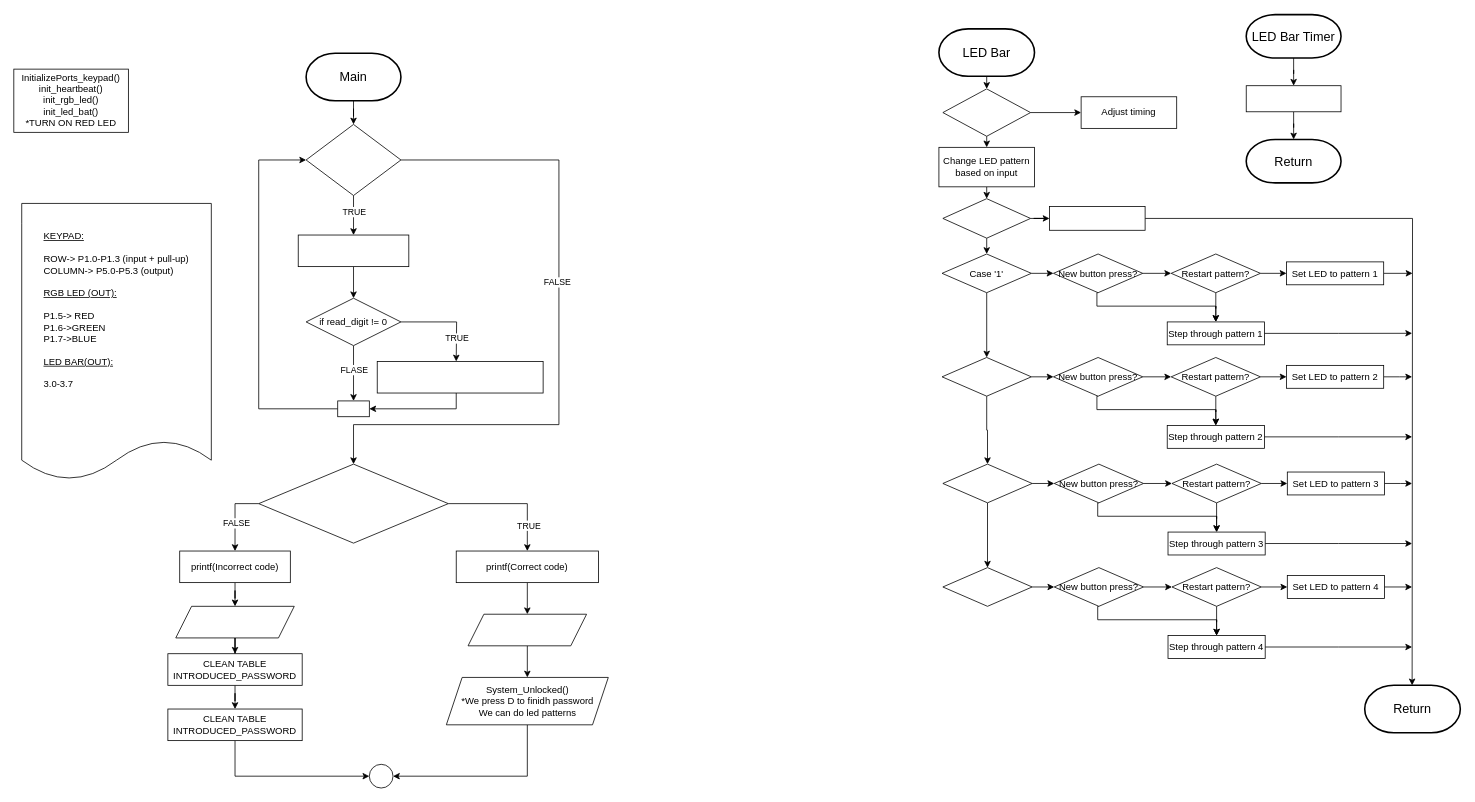
Image size: 1475x802. Some labels were removed from this diagram. Here are the shapes that lost their labels. From the top down, the box of each, then its label:
(942, 88, 1031, 136): Adjust timing?
(1245, 85, 1341, 112): Step through pattern
(305, 124, 401, 196): counter<TABLE_SIZE
(942, 198, 1031, 238): Case '0'
(1049, 206, 1145, 230): Set LED to pattern 0
(297, 234, 409, 267): CALL System_Unlocking() *We turn ON yellow LED here
(376, 361, 543, 393): introduced_password [counter] = key counter++
(941, 357, 1031, 396): Case '2'
(337, 400, 369, 417): ENDIF
(258, 463, 448, 543): if INTODUCED_PASSWORD = REAL_PASSWORD
(942, 463, 1032, 503): Case '3'
(942, 567, 1032, 606): Case '4'
(175, 606, 294, 638): continue_rgb_led(3) *RED LED ON
(467, 613, 587, 646): continue_rgb_led(1) *BLUE LED ON
